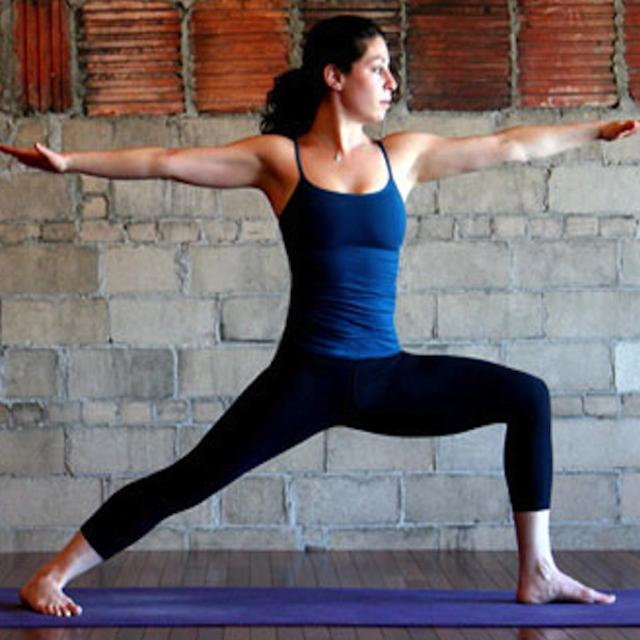Warrior_II: (5, 17, 640, 619)
